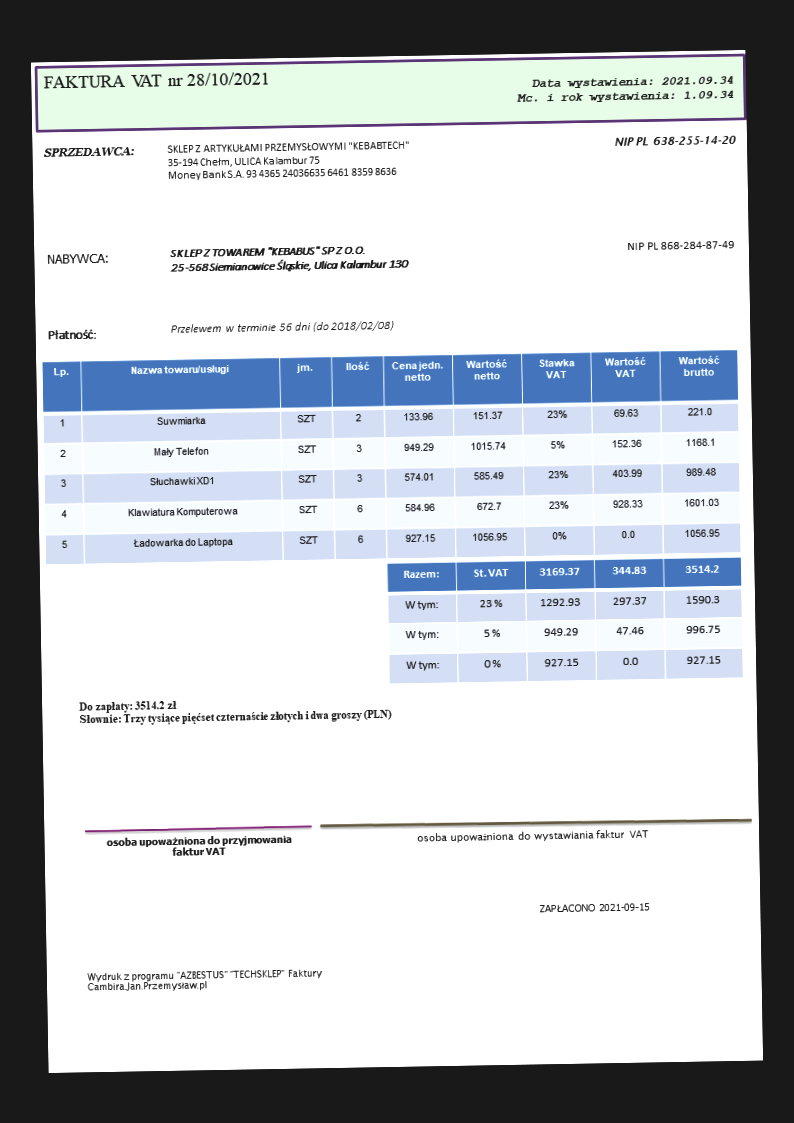Table: (41, 348, 743, 566), (385, 556, 745, 685)
TextBox: (164, 138, 412, 183), (76, 694, 393, 728), (167, 243, 410, 275), (514, 73, 736, 106), (85, 966, 324, 994), (104, 831, 295, 860), (41, 69, 271, 92), (169, 317, 395, 337), (414, 826, 649, 845), (612, 132, 737, 150), (536, 900, 650, 915), (625, 238, 735, 253), (41, 144, 136, 159), (44, 251, 109, 267), (45, 327, 99, 342)
